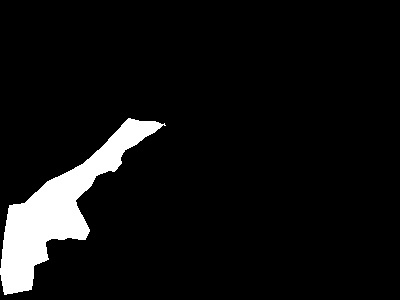Fire: (63, 116, 164, 196)
